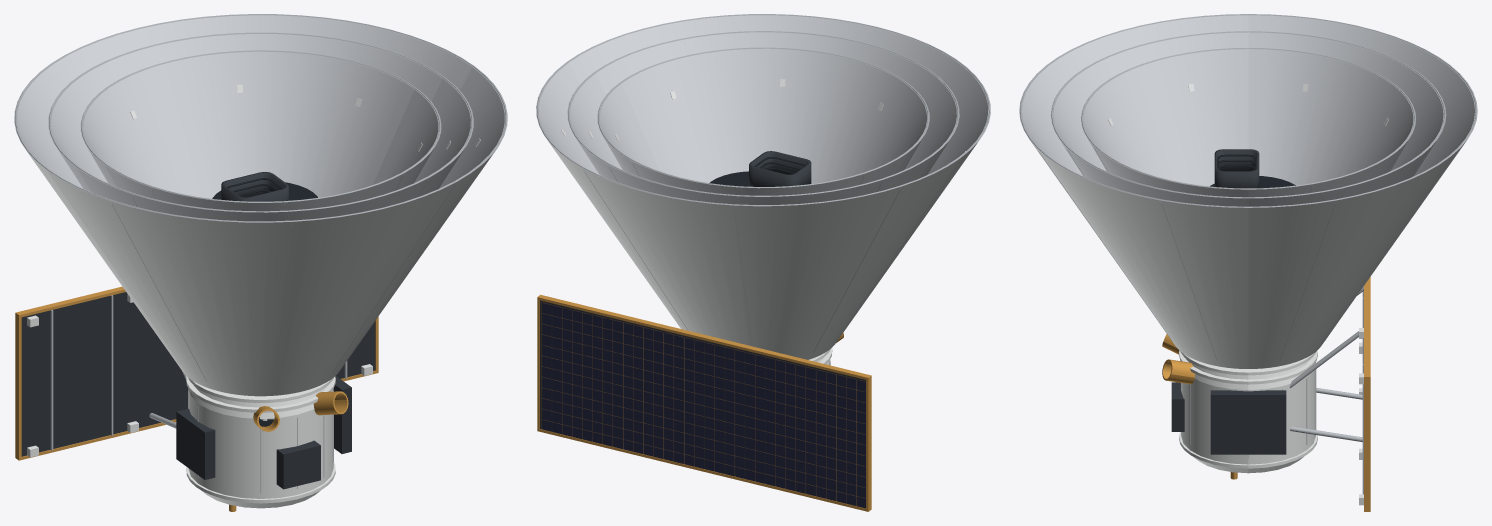
Rendered from spherex-lite.glb.
3 views of the same model, side by side, from view 1: azimuth 30°, elevation 25°; view 2: azimuth 150°, elevation 25°; view 3: azimuth 270°, elevation 25° (orthographic). The views are drawn at different scales.
Parts seen in each view (by area): view 1: Shield_Outer_Cutaway_Mesh, Shield_Inner_Fixed_Mesh, Solar_Array_Mesh, Spacecraft_Bus_Mesh, Shield_Outer_Fixed_Mesh, Shield_Middle_Fixed_Mesh, Shield_Middle_Cutaway_Mesh, Shield_Inner_Cutaway_Mesh, Telescope_Mesh, Attitude_Sensors_Mesh; view 2: Solar_Array_Mesh, Shield_Outer_Fixed_Mesh, Shield_Inner_Cutaway_Mesh, Shield_Outer_Cutaway_Mesh, Shield_Middle_Cutaway_Mesh, Shield_Middle_Fixed_Mesh, Shield_Inner_Fixed_Mesh, Telescope_Mesh; view 3: Shield_Outer_Cutaway_Mesh, Shield_Outer_Fixed_Mesh, Shield_Inner_Fixed_Mesh, Shield_Inner_Cutaway_Mesh, Spacecraft_Bus_Mesh, Shield_Middle_Cutaway_Mesh, Shield_Middle_Fixed_Mesh, Solar_Array_Mesh, Telescope_Mesh, Attitude_Sensors_Mesh.
Part boxes in pixels (<box>): Shield_Outer_Cutaway_Mesh: <box>47,66,507,396</box>; Shield_Inner_Fixed_Mesh: <box>80,50,416,198</box>; Solar_Array_Mesh: <box>15,286,378,460</box>; Spacecraft_Bus_Mesh: <box>176,376,351,508</box>; Shield_Outer_Fixed_Mesh: <box>14,14,473,378</box>; Shield_Middle_Fixed_Mesh: <box>48,32,444,192</box>; Shield_Middle_Cutaway_Mesh: <box>77,77,473,221</box>; Shield_Inner_Cutaway_Mesh: <box>105,88,441,211</box>; Telescope_Mesh: <box>212,172,317,201</box>; Attitude_Sensors_Mesh: <box>253,391,348,431</box>; Solar_Array_Mesh: <box>537,294,871,511</box>; Shield_Outer_Fixed_Mesh: <box>536,62,959,359</box>; Shield_Inner_Cutaway_Mesh: <box>620,47,929,183</box>; Shield_Outer_Cutaway_Mesh: <box>567,14,990,349</box>; Shield_Middle_Cutaway_Mesh: <box>594,31,959,178</box>; Shield_Middle_Fixed_Mesh: <box>567,72,933,204</box>; Shield_Inner_Fixed_Mesh: <box>597,82,907,195</box>; Telescope_Mesh: <box>709,151,811,186</box>; Shield_Outer_Cutaway_Mesh: <box>1019,14,1248,368</box>; Shield_Outer_Fixed_Mesh: <box>1248,14,1477,368</box>; Shield_Inner_Fixed_Mesh: <box>1248,48,1415,197</box>; Shield_Inner_Cutaway_Mesh: <box>1081,48,1248,197</box>; Spacecraft_Bus_Mesh: <box>1171,350,1317,473</box>; Shield_Middle_Cutaway_Mesh: <box>1050,31,1248,206</box>; Shield_Middle_Fixed_Mesh: <box>1248,31,1446,206</box>; Solar_Array_Mesh: <box>1289,277,1370,511</box>; Telescope_Mesh: <box>1210,149,1295,188</box>; Attitude_Sensors_Mesh: <box>1162,334,1195,386</box>.
Size of the model in its own units: 3.2 by 2.7 by 3.2.
